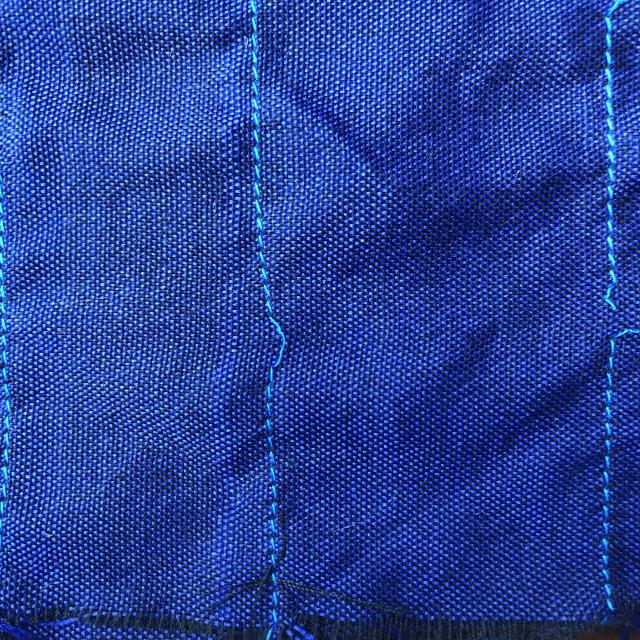broken: (561, 262, 640, 371)
good: (590, 418, 628, 538)
skip: (246, 294, 310, 397)
